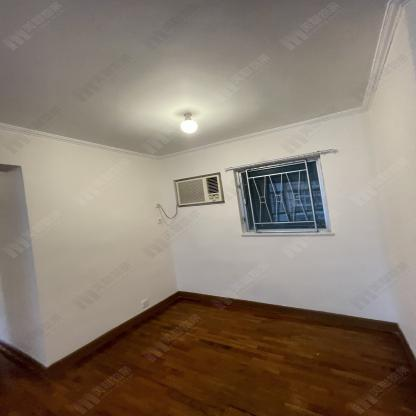AC: (175, 174, 224, 206)
